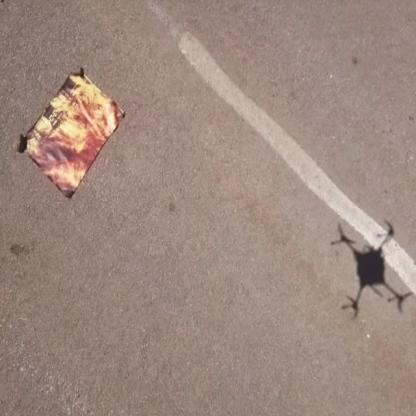fire-poster: (18, 65, 126, 201)
